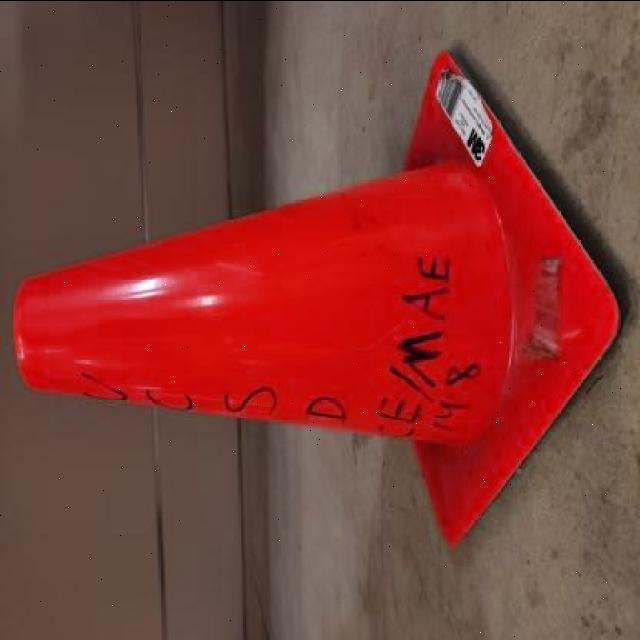traffic cone: (9, 43, 627, 564)
